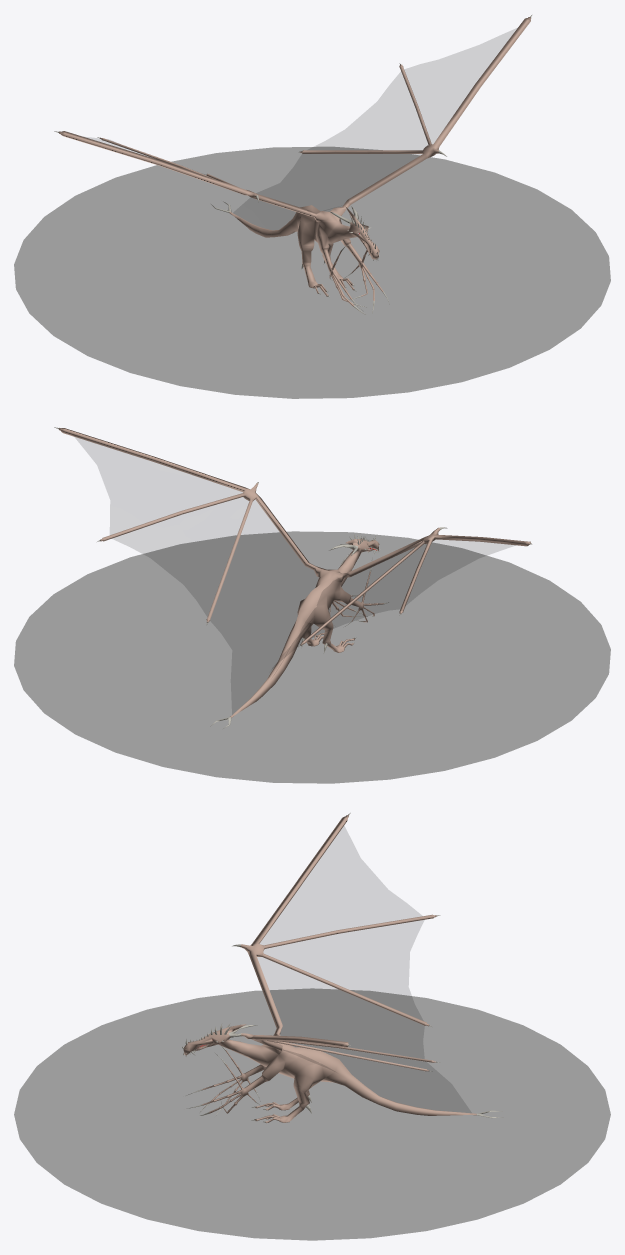
Rendered from Scimitar-Dragon.dae.
3 renders of one model, top to bottom at view 1: azimuth 30°, elevation 25°; view 2: azimuth 150°, elevation 25°; view 3: azimuth 270°, elevation 25°, orthographic.
Visible parts, largest first — view 1: Circle_003, Plane_001, Cube; view 2: Circle_003, Plane_001, Cube; view 3: Circle_003, Plane_001, Cube.
Boxes of the visible parts, box(x1,y1,x2,y2) form: Circle_003: box(14, 146, 610, 398); Plane_001: box(87, 29, 515, 229); Cube: box(54, 15, 531, 314); Circle_003: box(14, 531, 610, 783); Plane_001: box(74, 435, 517, 713); Cube: box(54, 427, 532, 728); Circle_003: box(14, 988, 610, 1240); Plane_001: box(257, 826, 470, 1112); Cube: box(182, 813, 503, 1122).
Size of the model in its own units: 46.33 by 46.33 by 16.14.
